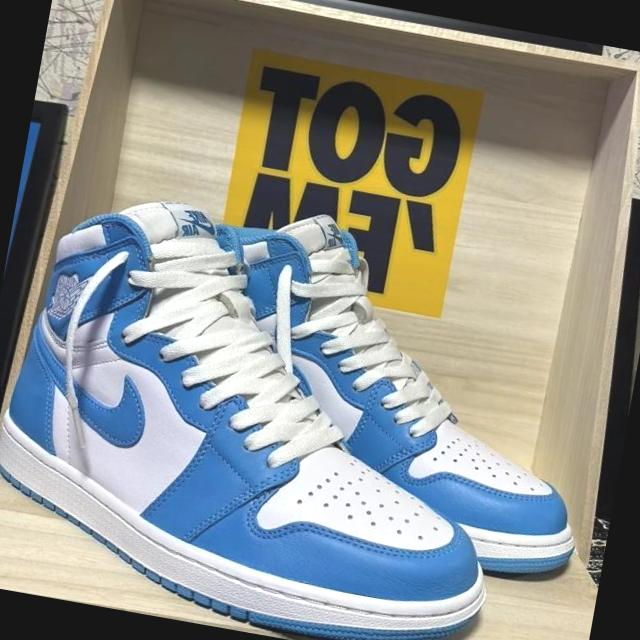nike_original_jordan: (0, 174, 542, 640), (197, 199, 622, 577)
